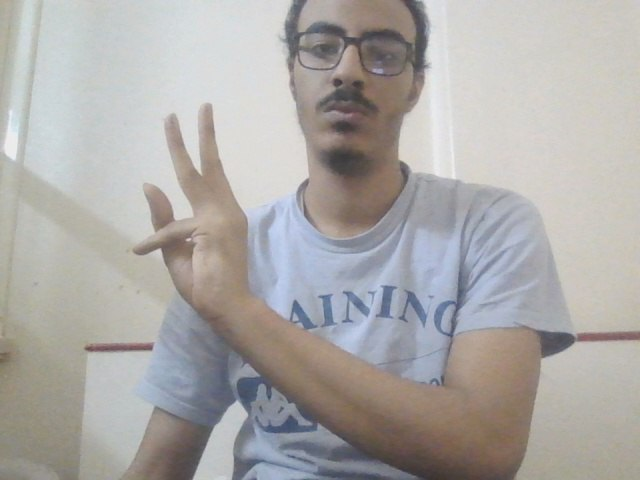Water: (133, 97, 262, 322)
